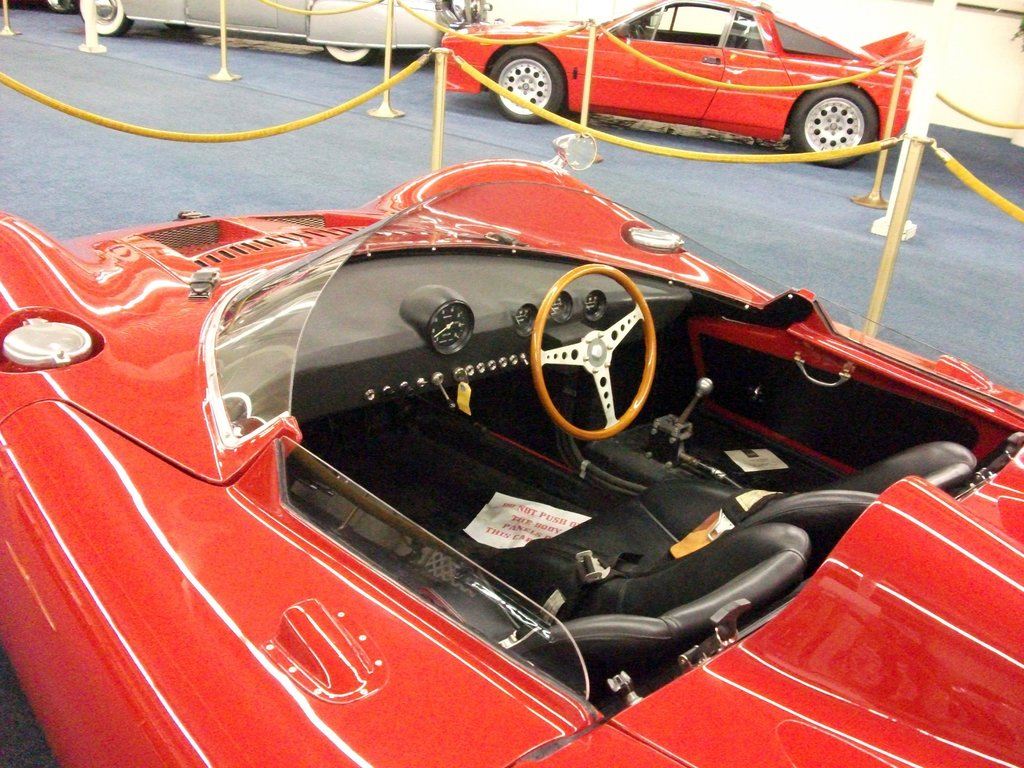Car: (0, 137, 1023, 767), (417, 6, 948, 166)
